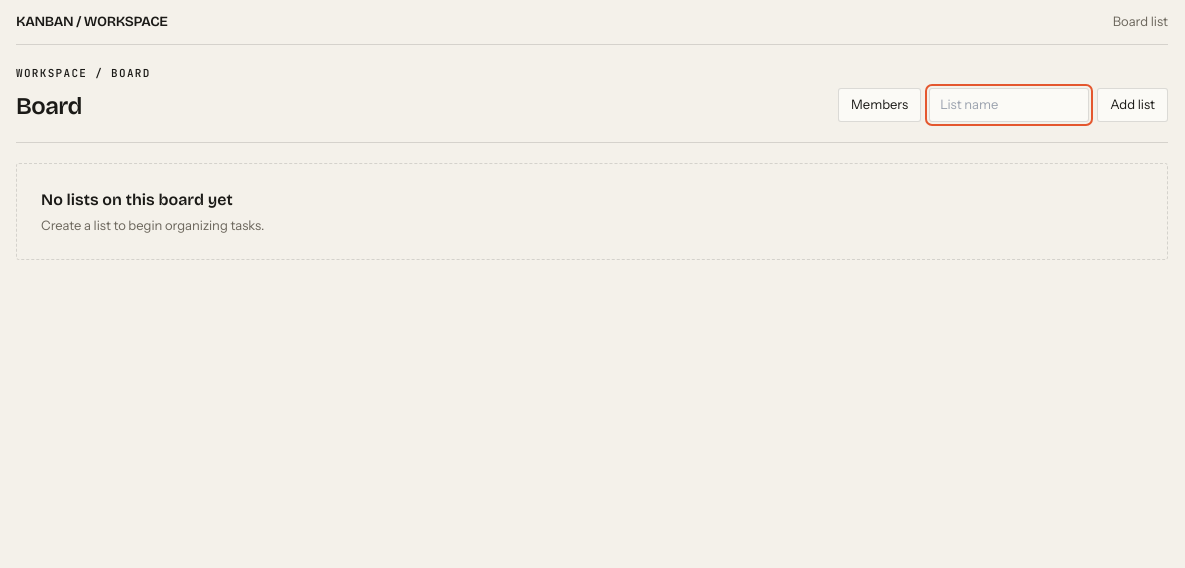
client flows › shows the API error when an invite email has no matching user
Step 1. Click the button "Members" → (880, 105), box [838,88,921,122]
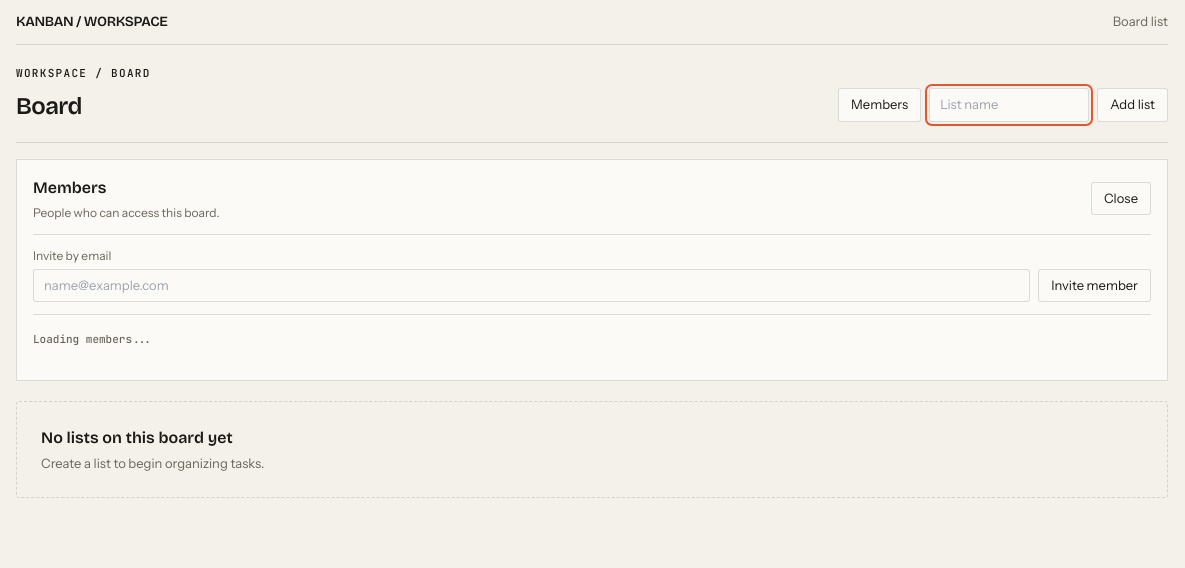
Step 2. Type "unknown@example.com" into the field labelled "Invite by email" → (532, 285), box [33,268,1030,302]
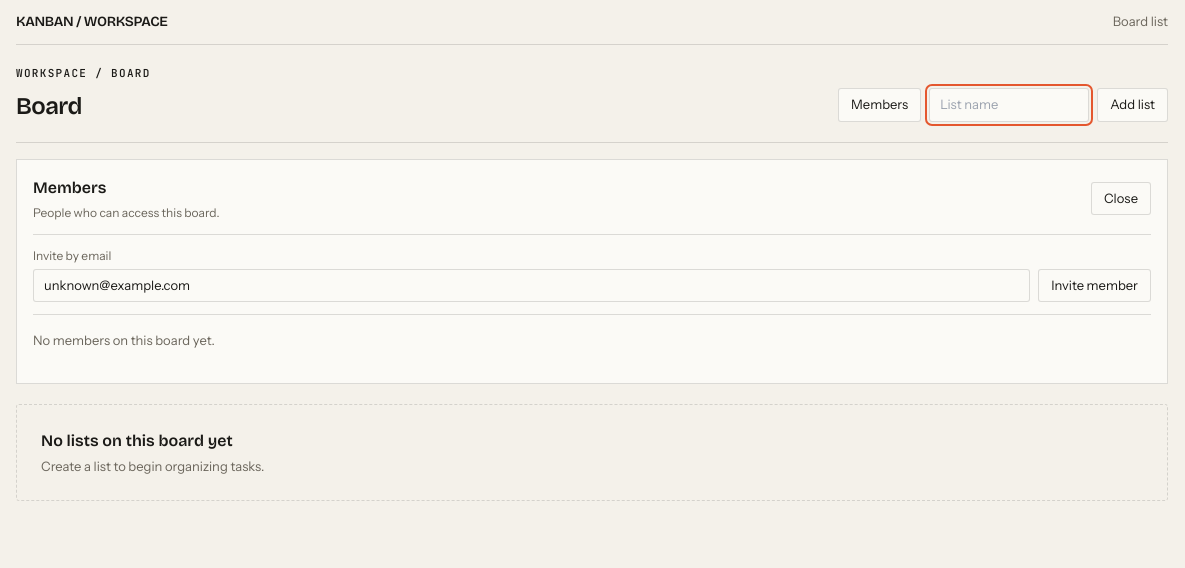
Step 3. Click the button "Invite member" → (1095, 285), box [1038,268,1151,302]
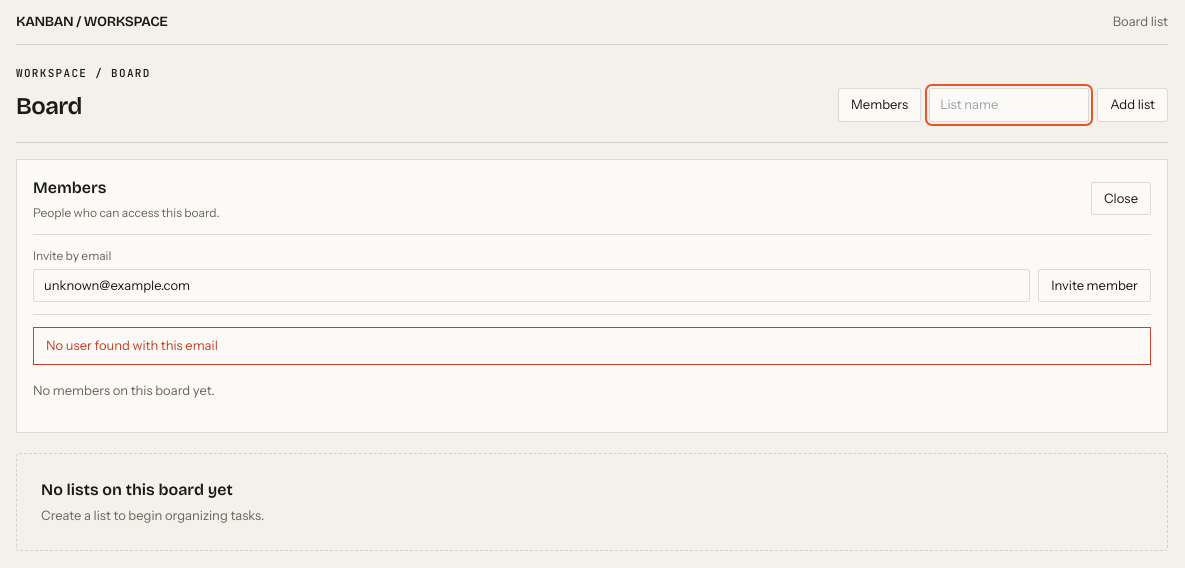
Expected: the message reads "No user found with this email", [46,337,218,353]
